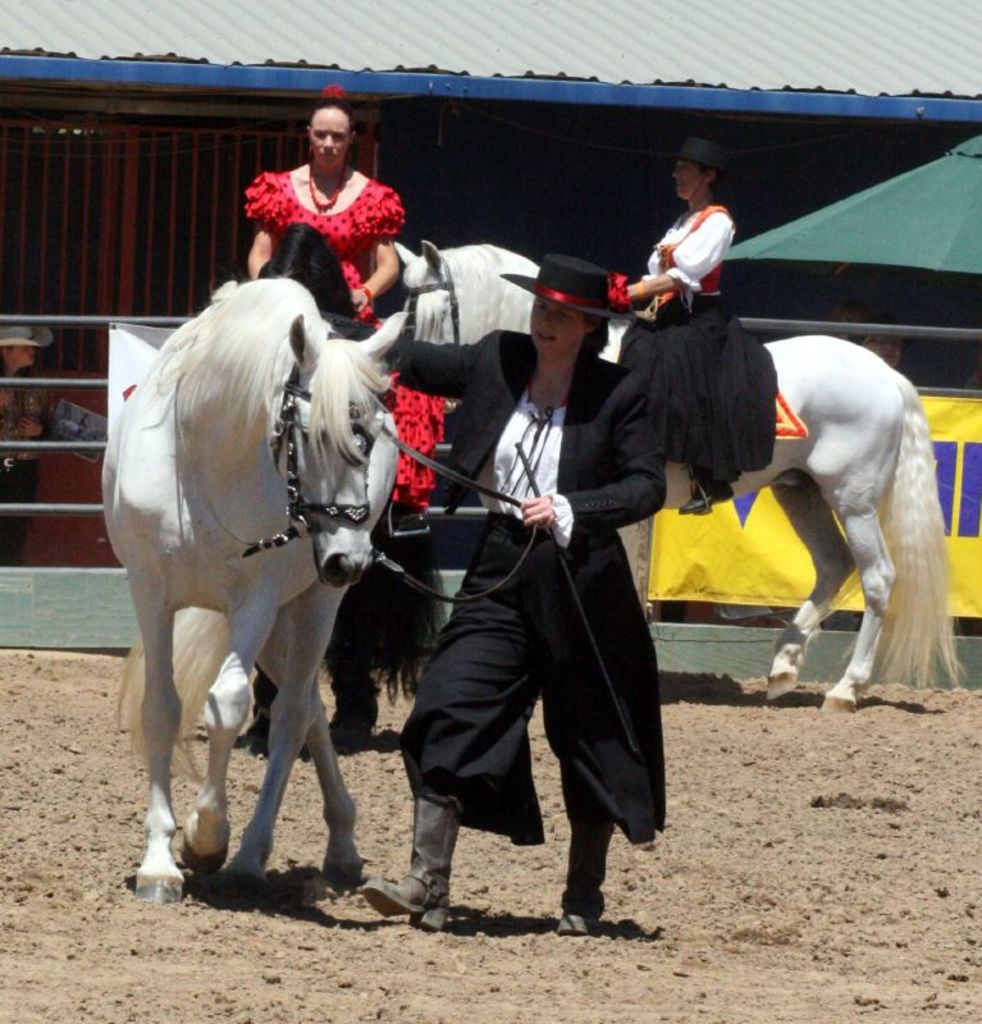horse: (96, 273, 410, 907)
